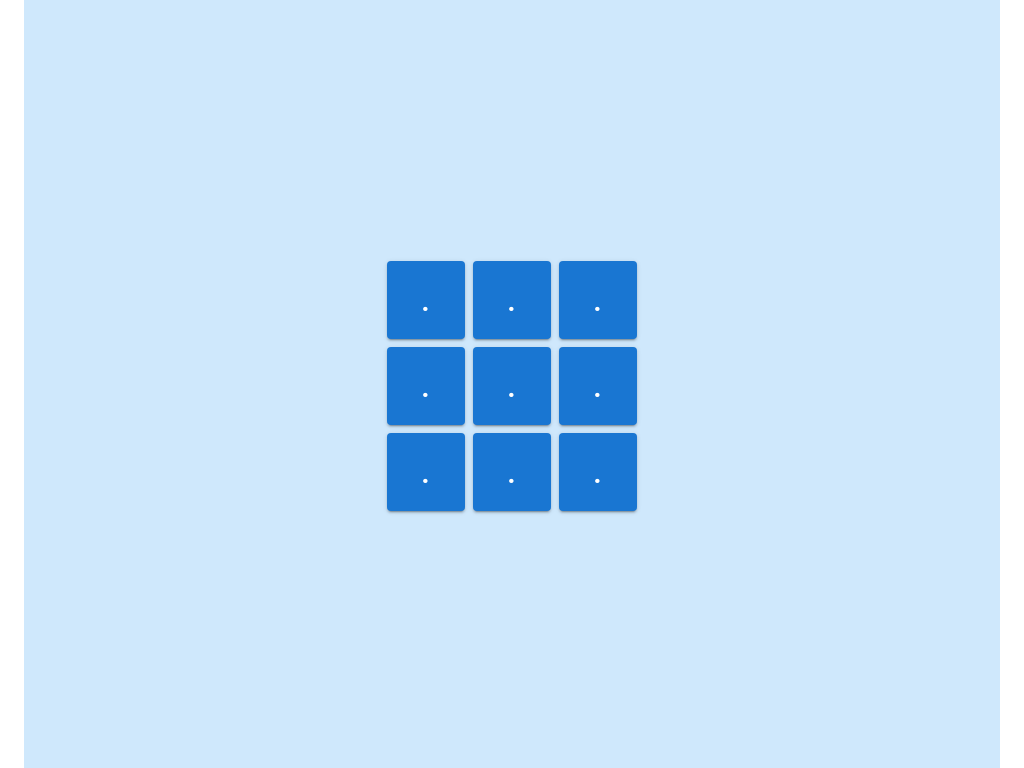
Tris › tells the winner
The image size is (1024, 768).
Click the 1st button "." at (426, 300), box [387, 261, 465, 339]
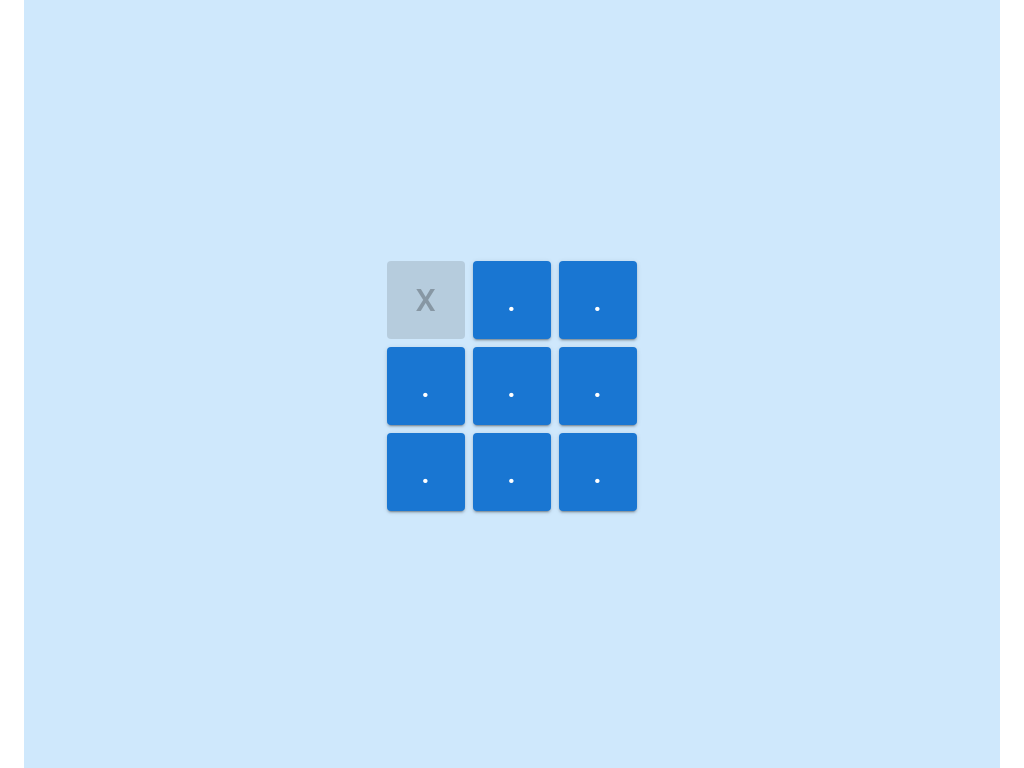
Click the 3rd button "." at (426, 386), box [387, 347, 465, 425]
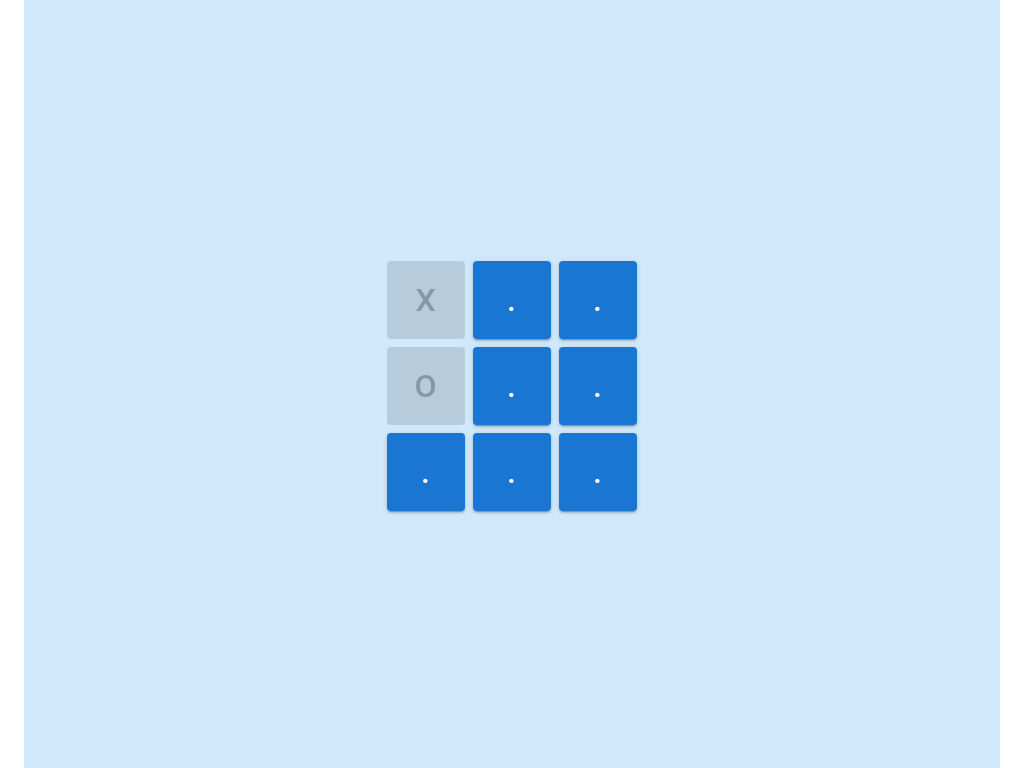
Click the 1st button "." at (512, 300), box [473, 261, 551, 339]
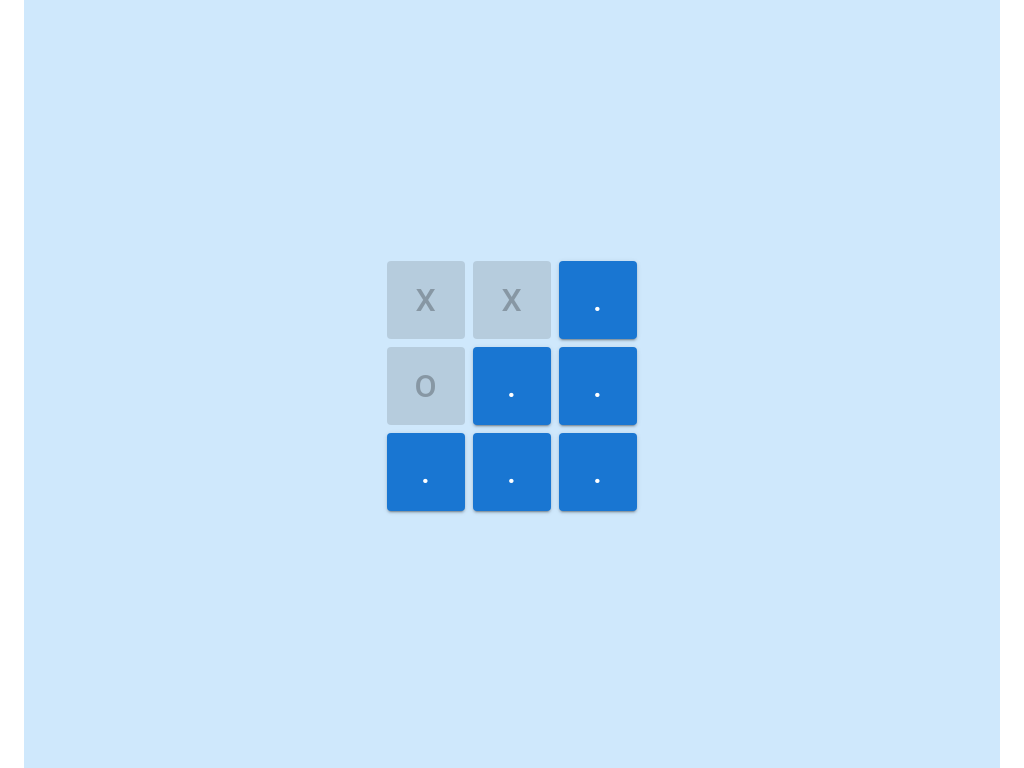
Click the 2nd button "." at (512, 386), box [473, 347, 551, 425]
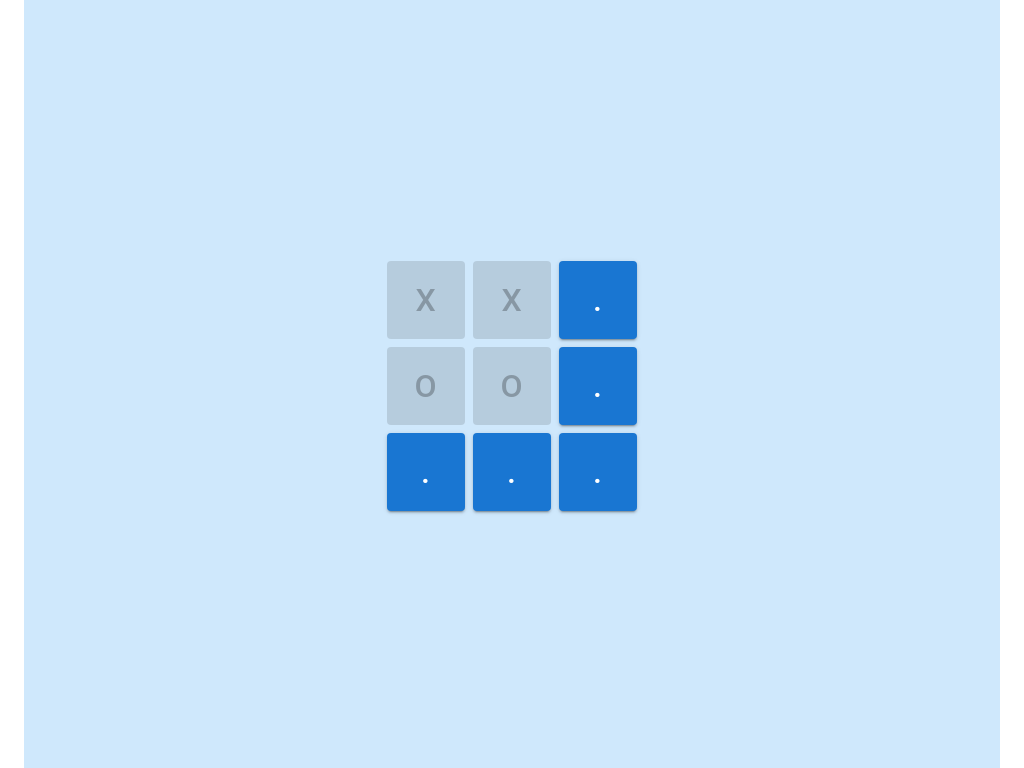
Click the 1st button "." at (598, 300), box [559, 261, 637, 339]
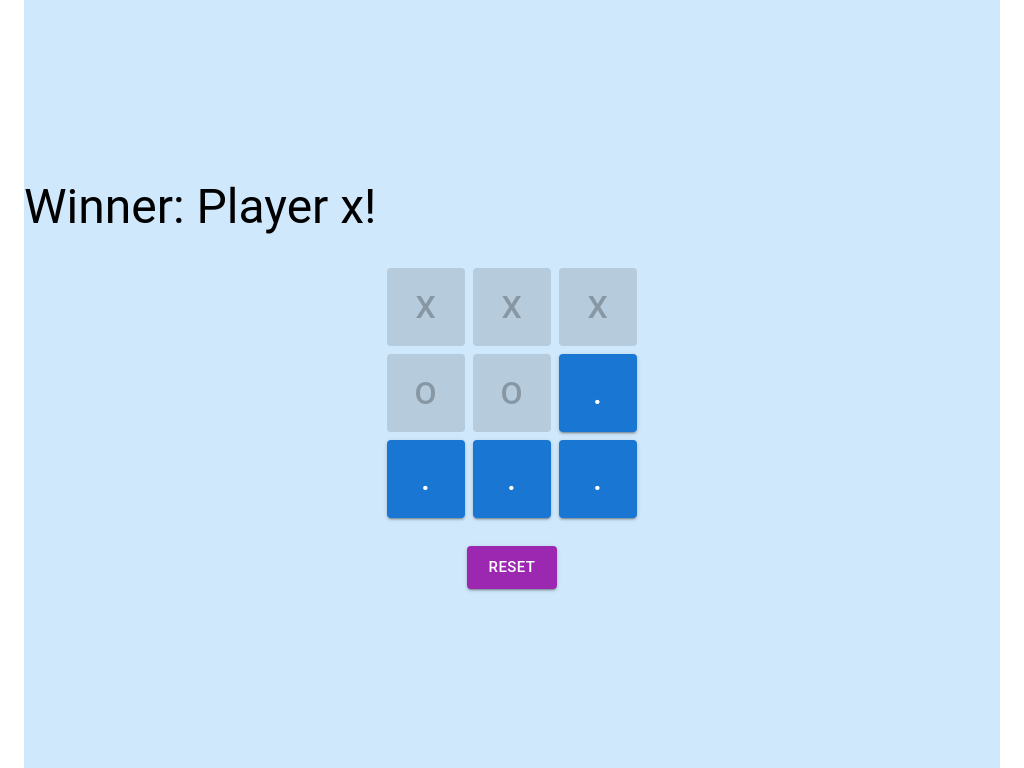
Result: the heading "Winner: Player x!" is shown at [24, 178, 376, 236]
